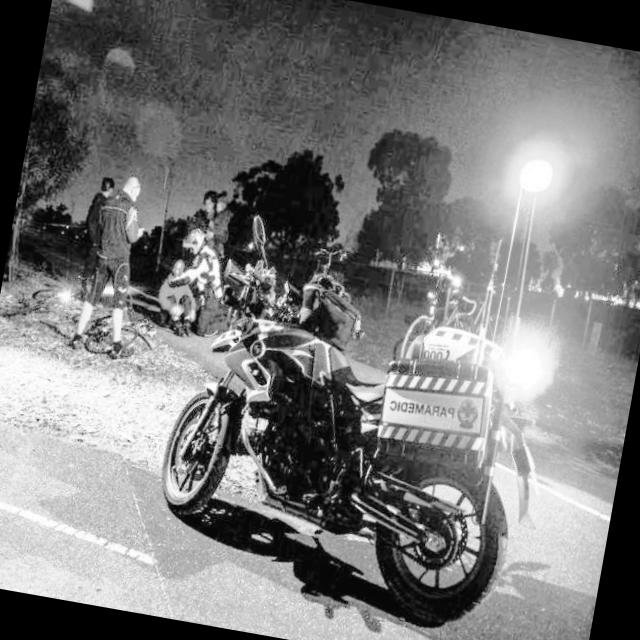Motorcycle: (139, 258, 522, 589)
